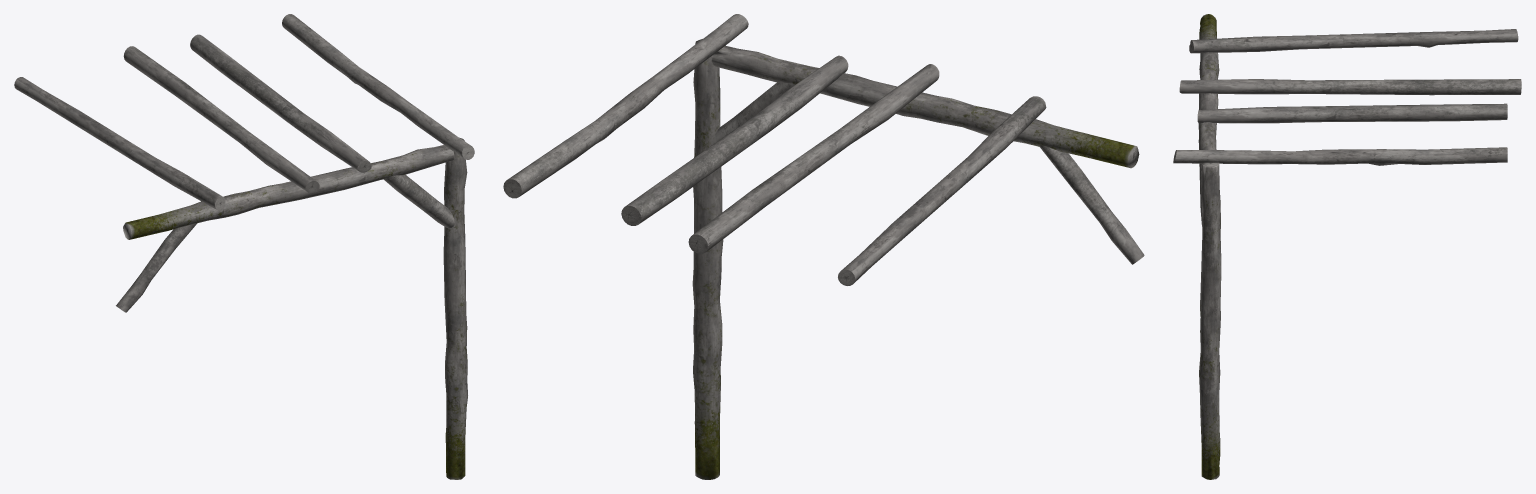
Rendered from SM_SupportModule_8.fbx.
3 views of the same model, side by side, from view 1: azimuth 30°, elevation 25°; view 2: azimuth 150°, elevation 25°; view 3: azimuth 270°, elevation 25° (orthographic). The views are drawn at different scales.
Parts seen in each view (by area): view 1: SM_SupportModule_8_LOD0; view 2: SM_SupportModule_8_LOD0; view 3: SM_SupportModule_8_LOD0.
Part boxes in pixels (x1=…): SM_SupportModule_8_LOD0: x1=14, y1=14, x2=474, y2=479; SM_SupportModule_8_LOD0: x1=503, y1=14, x2=1144, y2=479; SM_SupportModule_8_LOD0: x1=1173, y1=14, x2=1521, y2=479.
Bounding box in the file's own units: 314 × 290 × 300.
